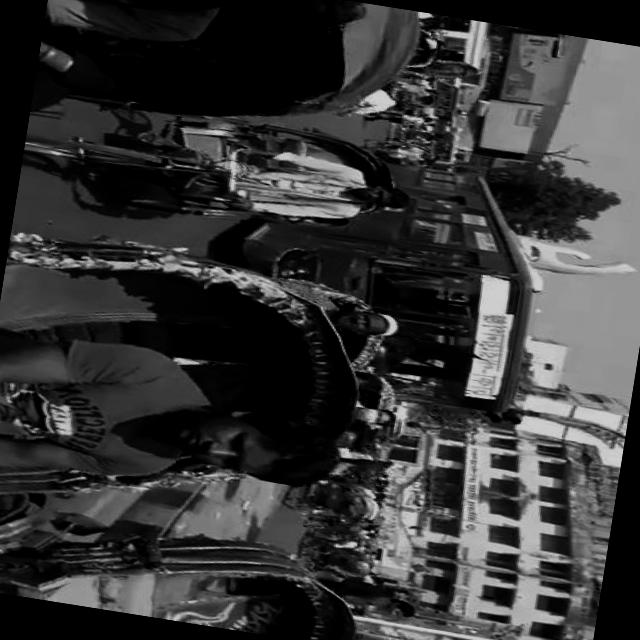bus: (212, 133, 563, 427), (410, 14, 498, 86), (401, 72, 469, 126), (396, 124, 464, 173)
motorcycle: (0, 223, 386, 560), (18, 84, 424, 256), (42, 0, 427, 152), (0, 491, 383, 640), (261, 273, 405, 381), (284, 456, 389, 530), (344, 370, 406, 444), (382, 77, 443, 112)
